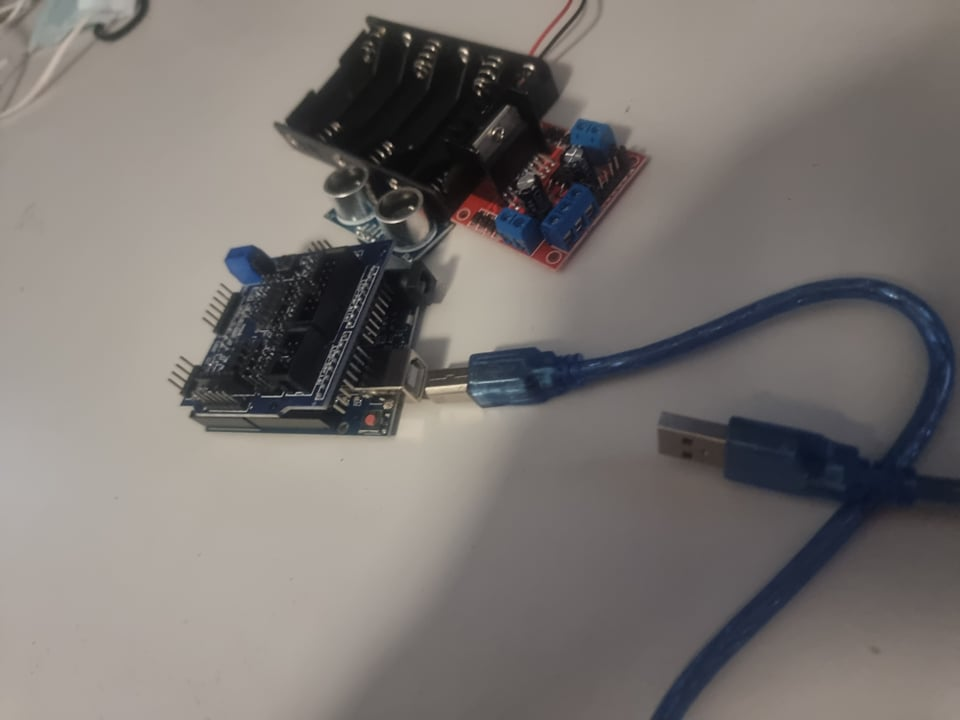5V EXPANSION: (176, 237, 364, 404)
BATTERY BOX: (273, 11, 551, 198)
MOTOR: (451, 96, 648, 271)
SENSOR: (317, 165, 447, 250)
UNO R3: (349, 258, 441, 451)
